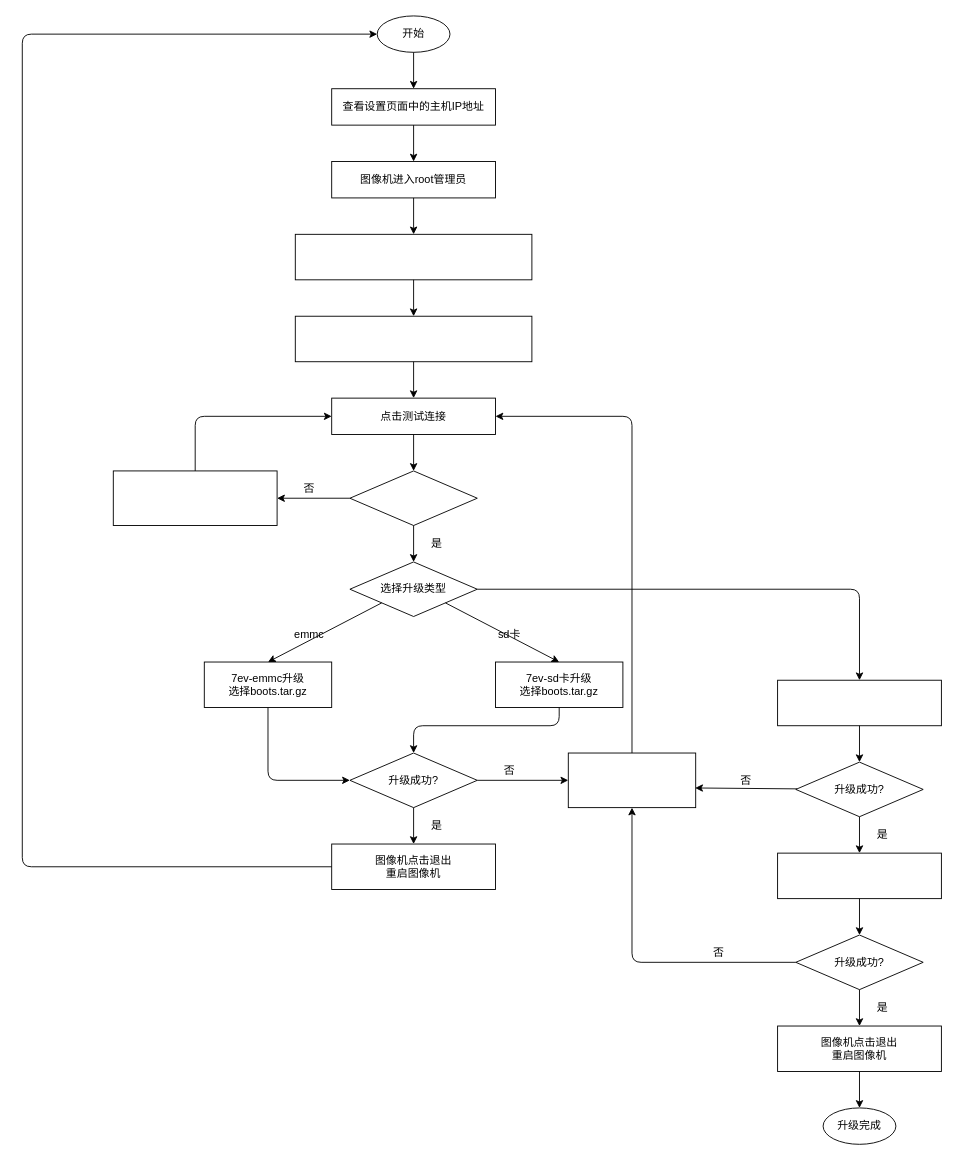
Some shapes in this 957 by 1160 pixel diagram are drawn without their labels. The box of each missing label's shape, as (x1, y1, x2, y2) in pixels:
Ctrl+R打开隐藏维护界面 点击图像机设置-进入后台升级: (294, 233, 532, 280)
打开680SoftwareUpdate.exe 填写IP端口22用户名root: (294, 315, 532, 362)
检查图像机IP地址 配置电脑以太网: (112, 470, 277, 526)
检查操作日志 检查硬盘安装: (567, 752, 696, 808)
点击升级ku5p 选择ku5p_package.tar.gz: (777, 852, 941, 899)
点击升级qt软件 选择qt_update.tar.gz: (777, 679, 941, 726)
连接测试成功?: (349, 470, 477, 526)
